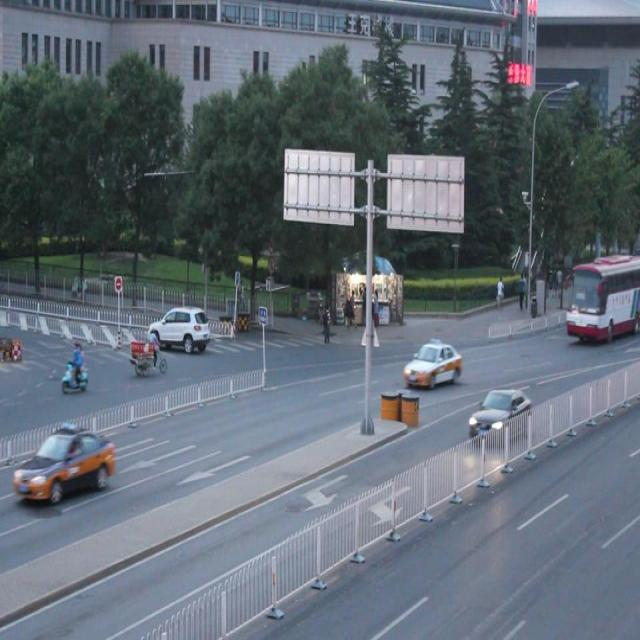car: (14, 422, 114, 506), (468, 388, 528, 439), (402, 334, 462, 384), (147, 308, 209, 356)
van: (566, 253, 640, 337)
